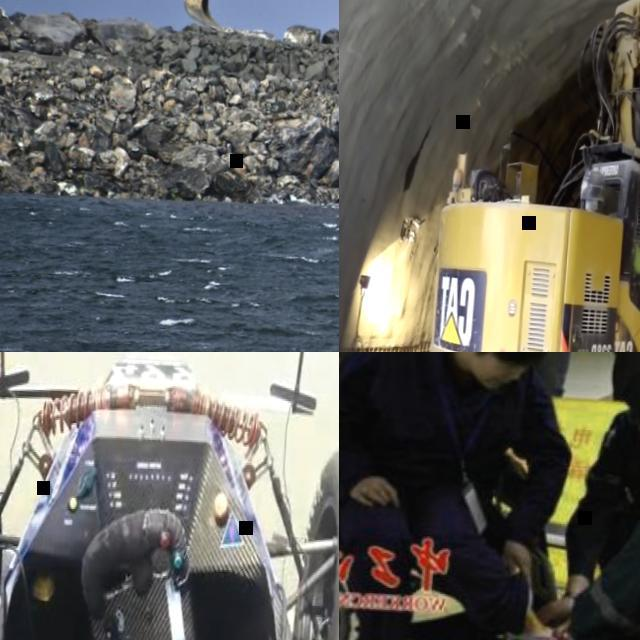vest: (632, 244, 640, 272)
